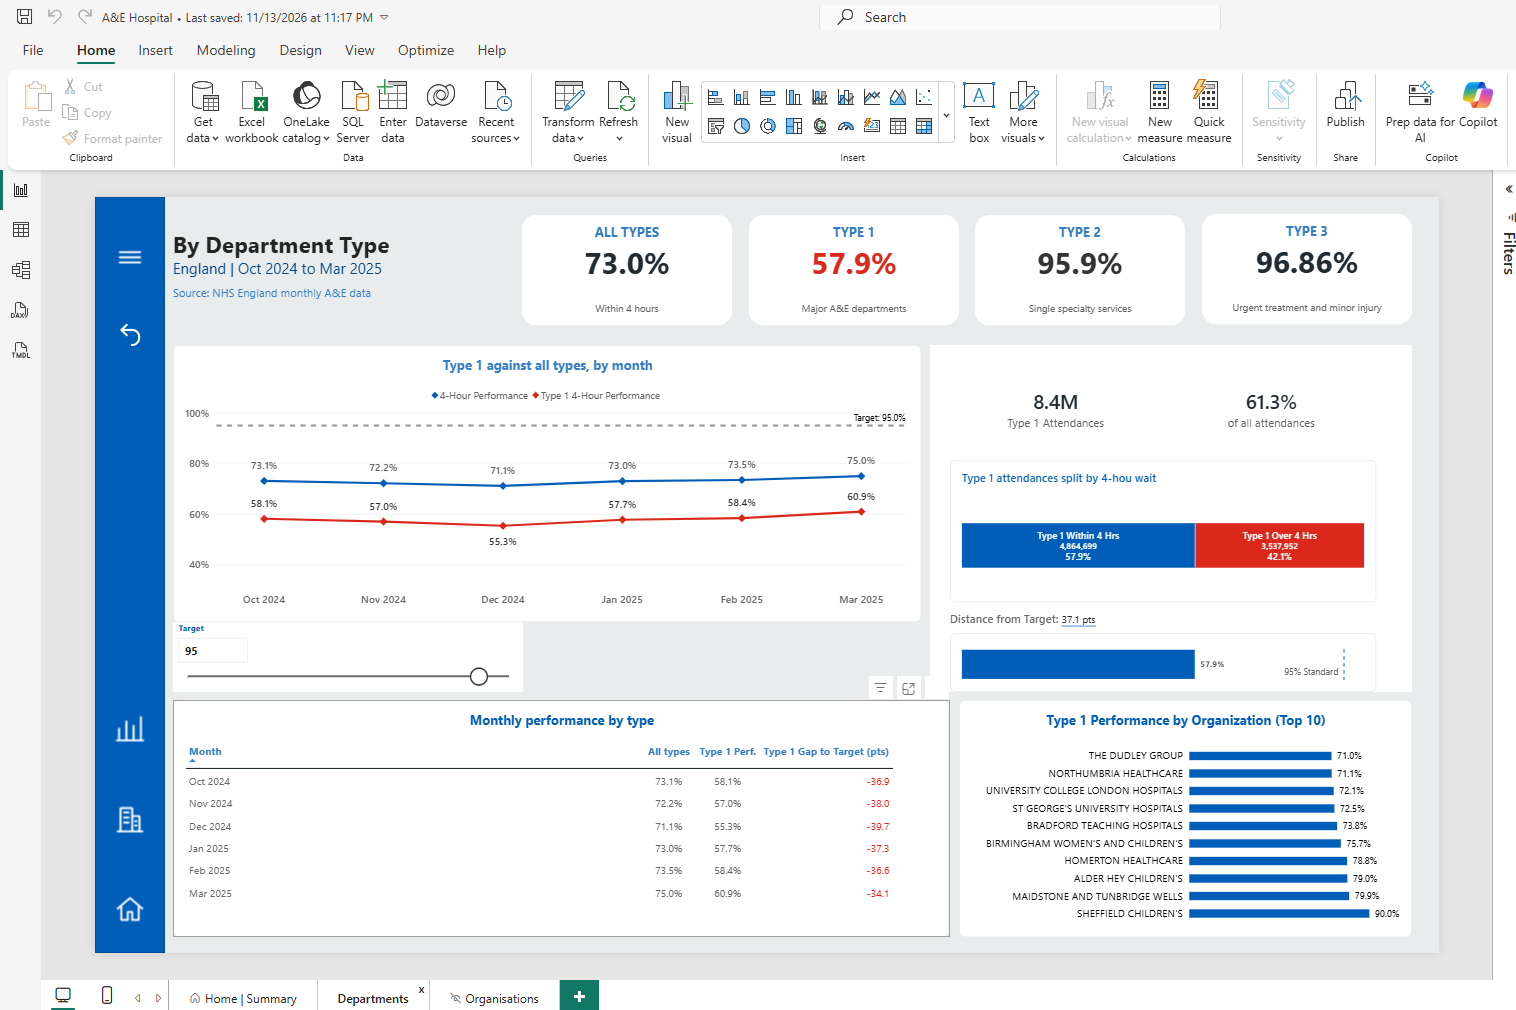

This screenshot's page, from the dashboard's own definition file:
{"tool":"powerbi","page":{"name":"Departments","canvas":[1920,1080],"ordinal":1},"visuals":[{"type":"shape","box":[0,0,100,1080],"z":0},{"type":"textbox","box":[112,44,401.3,42.7],"z":1000},{"type":"textbox","box":[112,86.7,401.3,38.7],"z":2000},{"type":"textbox","box":[112,125.3,401.3,42.7],"z":3000},{"type":"cardVisual","fields":{"Data":["Measure_Table.4-Hour Performance (All Orgs)"]},"box":[610.7,25.3,300,158.7],"z":4000},{"type":"cardVisual","fields":{"Data":["Measure_Table.Type 2 4-Hour Performance"]},"box":[1257.8,25.3,300,158.7],"z":5000},{"type":"cardVisual","fields":{"Data":["Measure_Table.Type 3 4-Hour Performance"]},"box":[1581.4,24.3,300,158.7],"z":6000},{"type":"lineChart","title":"Type 1 against all types, by month","fields":{"Category":["Calendar_Table.Month Year"],"Y":["Measure_Table.4-Hour Performance","Measure_Table.Type 1 4-Hour Performance"]},"box":[111.4,211.4,1068.6,395.7],"z":7000,"group":"g1"},{"type":"tableEx","title":"Monthly performance by type","fields":{"Values":["Calendar_Table.Month Year","Measure_Table.4-Hour Performance","Measure_Table.Type 1 4-Hour Performance","Measure_Table.Type 1 Gap to 95% (pts)"]},"box":[112,718.7,1109.3,338.7],"z":8000},{"type":"clusteredBarChart","title":"Type 1 Performance  by  Organization (Top 10)","fields":{"Category":["AE_Fact.Org name"],"Y":["Measure_Table.Type 1 4-Hour Performance"]},"box":[1234.3,718.6,647.1,338.6],"z":9000},{"type":"actionButton","box":[0,157.1,100,78.6],"z":10000},{"type":"actionButton","box":[0,718.6,100,80],"z":11000},{"type":"actionButton","box":[0,847.9,100,80],"z":12000},{"type":"actionButton","box":[0,977.1,100,80],"z":13000},{"type":"actionButton","box":[0,47.1,100,78.6],"z":14000},{"type":"cardVisual","fields":{"Data":["Measure_Table.Type 1 4-Hour Performance"]},"box":[934.3,25.7,300,158.7],"z":15000},{"type":"shape","box":[1192.9,211.4,688.6,495.7],"z":16000},{"type":"cardVisual","fields":{"Data":["Measure_Table.Type 1 Attendances","Measure_Table.Type 1 Share of Attendances"]},"box":[1221.4,257.1,608.6,91.4],"z":17000},{"type":"hundredPercentStackedBarChart","title":"Type 1 attendances split by 4-hou wait","fields":{"Y":["Measure_Table.Type 1 Within 4 Hrs","Measure_Table.Type 1 Over 4 Hrs"]},"box":[1221.4,375.7,608.6,202.9],"z":18000},{"type":"clusteredBarChart","fields":{"Y":["Measure_Table.Type 1 4-Hour Performance"]},"box":[1221.4,622.9,608.6,84.3],"z":19000},{"type":"textbox","box":[1221.4,591.4,558.6,31.4],"z":20000},{"type":"slicer","fields":{"Values":["Target.Target"]},"box":[111.4,607.1,498.6,100],"z":21001,"group":"g1"},{"type":"group","id":"g1","title":"Group 1","box":[111.4,211.4,1068.6,495.7],"z":21002}]}

Visuals, with their boxes on the page's 1920x1080 design canvas (x1, y1, x2, y2). These are canvas units, not pixel positions in the 1516x1010 screenshot, which may show the page scaled, cropped or inside an application window:
shape: BBox(0, 0, 100, 1080)
textbox: BBox(112, 44, 513, 87)
textbox: BBox(112, 87, 513, 125)
textbox: BBox(112, 125, 513, 168)
cardVisual - Measure_Table.4-Hour Performance (All Orgs): BBox(611, 25, 911, 184)
cardVisual - Measure_Table.Type 2 4-Hour Performance: BBox(1258, 25, 1558, 184)
cardVisual - Measure_Table.Type 3 4-Hour Performance: BBox(1581, 24, 1881, 183)
"Type 1 against all types, by month" lineChart: BBox(111, 211, 1180, 607)
"Monthly performance by type" tableEx: BBox(112, 719, 1221, 1057)
"Type 1 Performance  by  Organization (Top 10)" clusteredBarChart: BBox(1234, 719, 1881, 1057)
actionButton: BBox(0, 157, 100, 236)
actionButton: BBox(0, 719, 100, 799)
actionButton: BBox(0, 848, 100, 928)
actionButton: BBox(0, 977, 100, 1057)
actionButton: BBox(0, 47, 100, 126)
cardVisual - Measure_Table.Type 1 4-Hour Performance: BBox(934, 26, 1234, 184)
shape: BBox(1193, 211, 1882, 707)
cardVisual - Measure_Table.Type 1 Attendances x Measure_Table.Type 1 Share of Attendances: BBox(1221, 257, 1830, 348)
"Type 1 attendances split by 4-hou wait" hundredPercentStackedBarChart: BBox(1221, 376, 1830, 579)
clusteredBarChart - Measure_Table.Type 1 4-Hour Performance: BBox(1221, 623, 1830, 707)
textbox: BBox(1221, 591, 1780, 623)
slicer - Target.Target: BBox(111, 607, 610, 707)
"Group 1" group: BBox(111, 211, 1180, 707)
